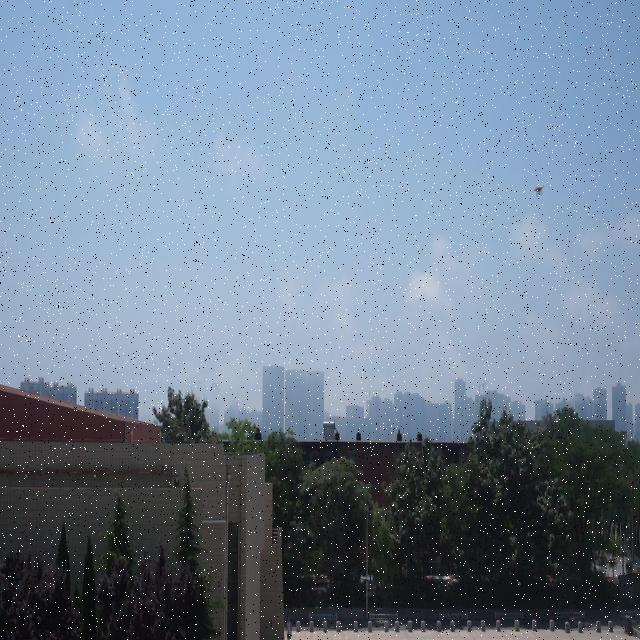UAV: (533, 185, 548, 197)
